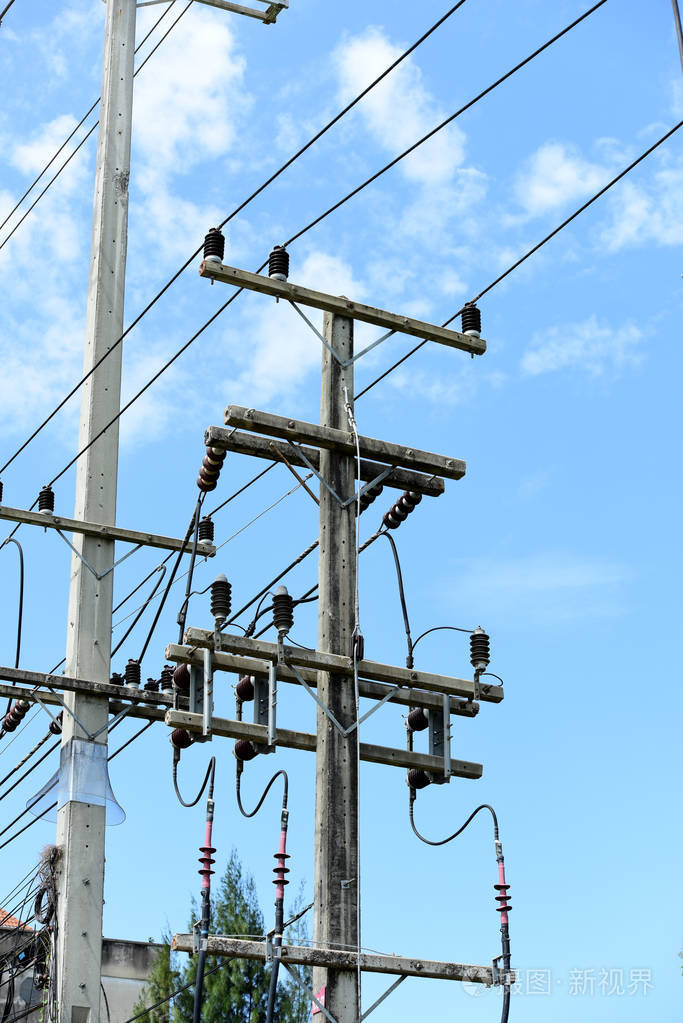insulator: (193, 446, 230, 491), (382, 488, 419, 530), (5, 695, 32, 738), (193, 843, 217, 878), (491, 881, 516, 914), (273, 849, 292, 889)
